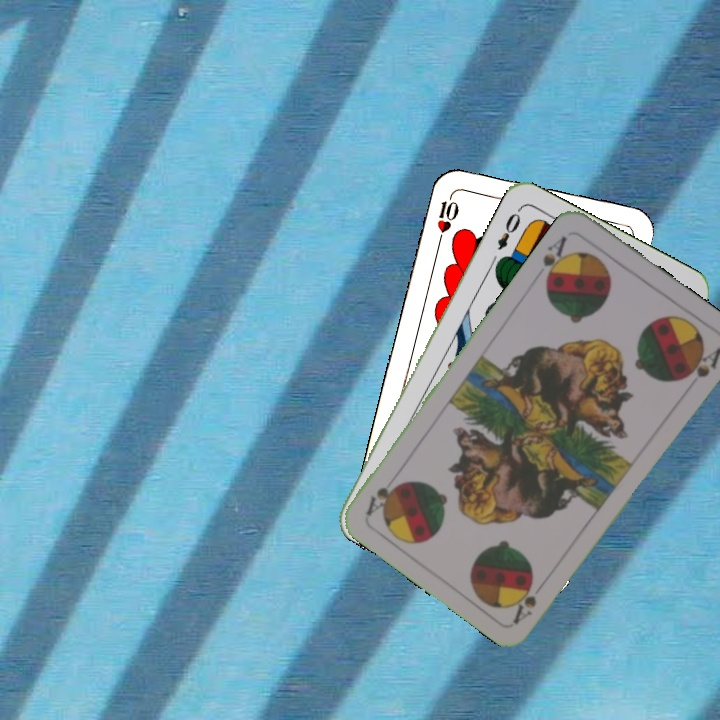EO: (493, 204, 524, 253)
H10: (433, 188, 461, 246)
SA: (509, 574, 550, 626), (538, 232, 573, 287)
